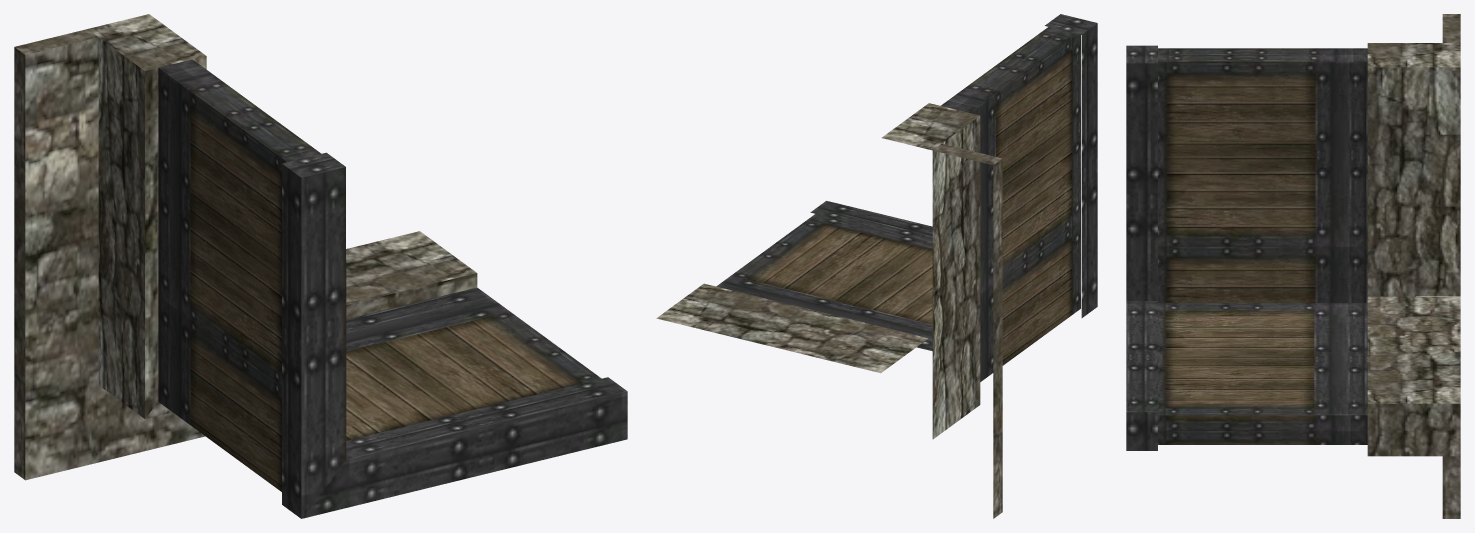
3 views of the same model, side by side, from view 1: azimuth 30°, elevation 25°; view 2: azimuth 150°, elevation 25°; view 3: azimuth 270°, elevation 25° (orthographic). The views are drawn at different scales.
Parts seen in each view (by area): view 1: model_Object77; view 2: model_Object77; view 3: model_Object77.
Boxes of the visible parts, x1,y1,x2,y2 form: model_Object77: [14, 14, 627, 518]; model_Object77: [656, 14, 1097, 518]; model_Object77: [1126, 14, 1460, 518].
Size of the model in its own units: 3.01 by 3.01 by 2.64.
Materials: 2 (2 with a texture image).
